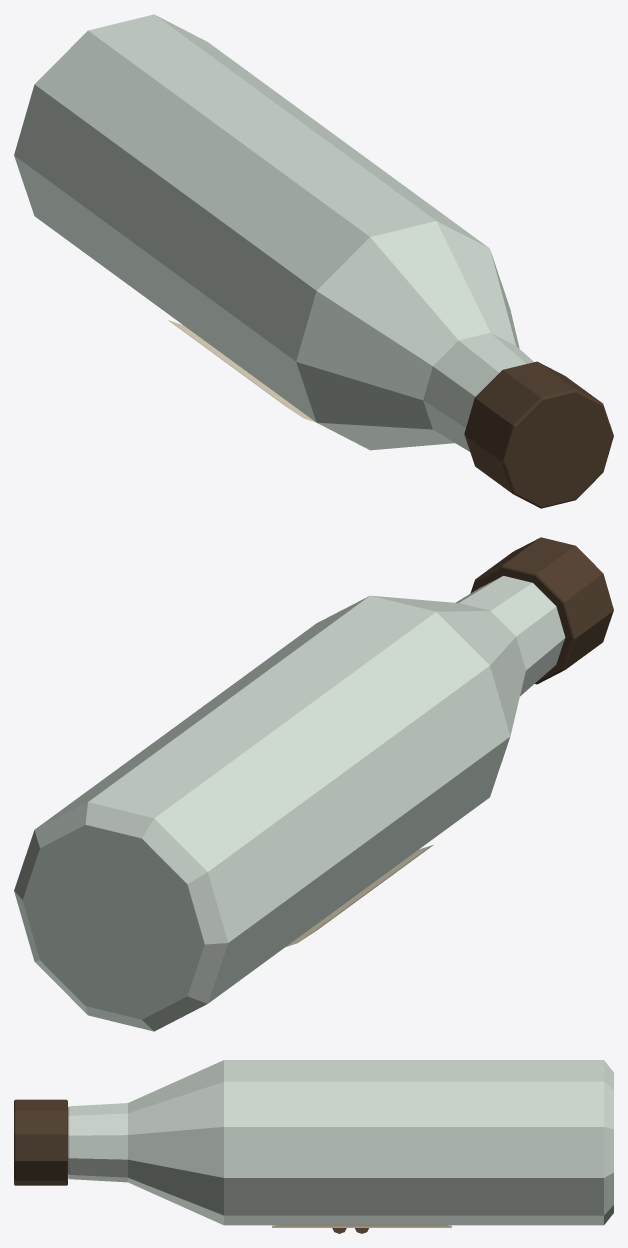
File: molasses.glb
3 renders of one model, top to bottom at view 1: azimuth 30°, elevation 25°; view 2: azimuth 150°, elevation 25°; view 3: azimuth 270°, elevation 25°, orthographic. The views are drawn at different scales.
Parts seen in each view (by area): view 1: molasses; view 2: molasses; view 3: molasses.
Part boxes in pixels (bbox=[...]): molasses: bbox=[14, 14, 613, 508]; molasses: bbox=[14, 537, 613, 1031]; molasses: bbox=[14, 1060, 613, 1233].
Bounding box in the file's own units: 0.05 × 0.0505 × 0.18.
